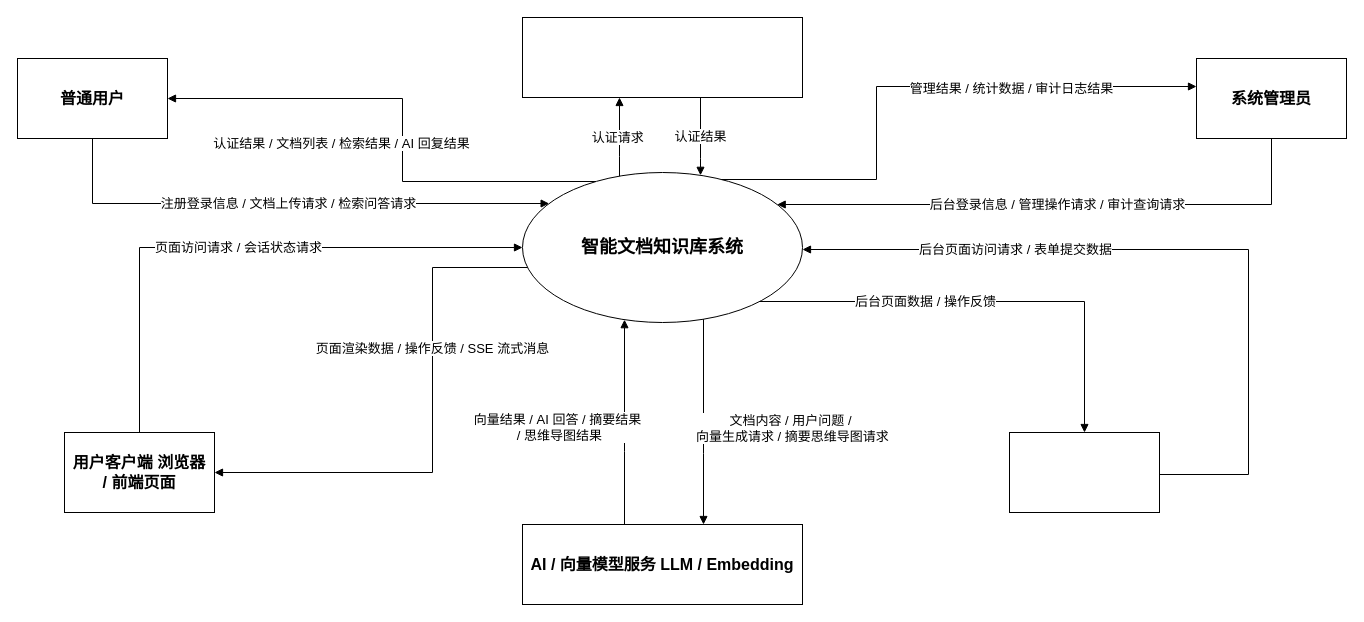
The diagram is 1364 pixels wide and 622 high, and some of its shapes have lost their labels. Each missing label, with the box of its shape:
第三方认证服务 GitHub OAuth / 邮件验证: (522, 16, 802, 98)
管理端客户端 后台页面: (1008, 432, 1160, 512)
